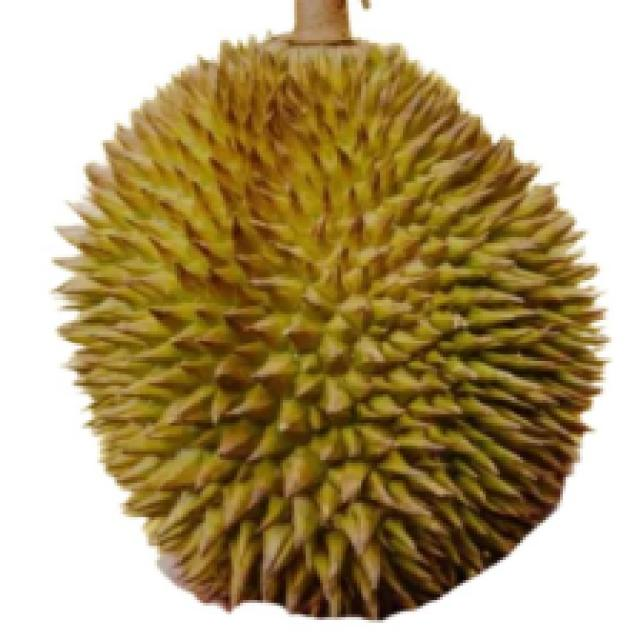d24: (74, 37, 572, 600)
